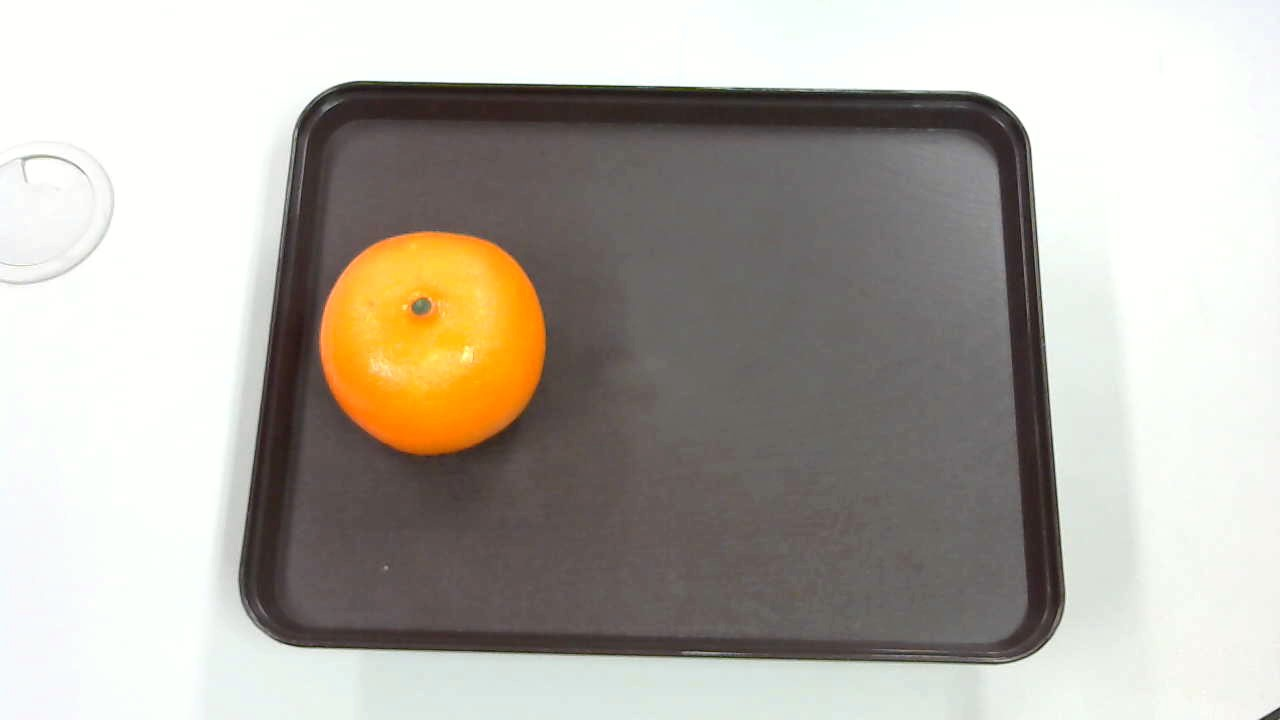orange: (315, 225, 552, 456)
